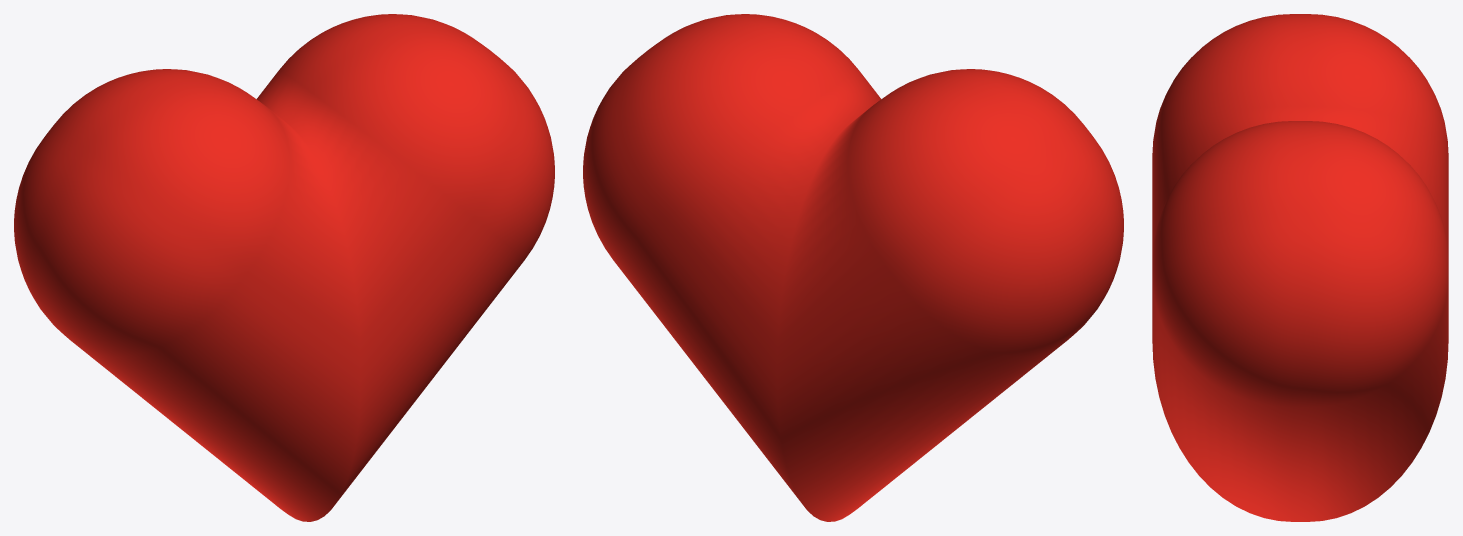
File: heart.gltf
3 renders of one model, left to right at view 1: azimuth 30°, elevation 25°; view 2: azimuth 150°, elevation 25°; view 3: azimuth 270°, elevation 25°, orthographic. The views are drawn at different scales.
Parts seen in each view (by area): view 1: Cube; view 2: Cube; view 3: Cube.
Part boxes in pixels (x1,y1,x2,y2): Cube: [14, 14, 554, 521]; Cube: [583, 14, 1123, 521]; Cube: [1152, 14, 1448, 521].
Size of the model in its own units: 3.75 by 3.29 by 2.
